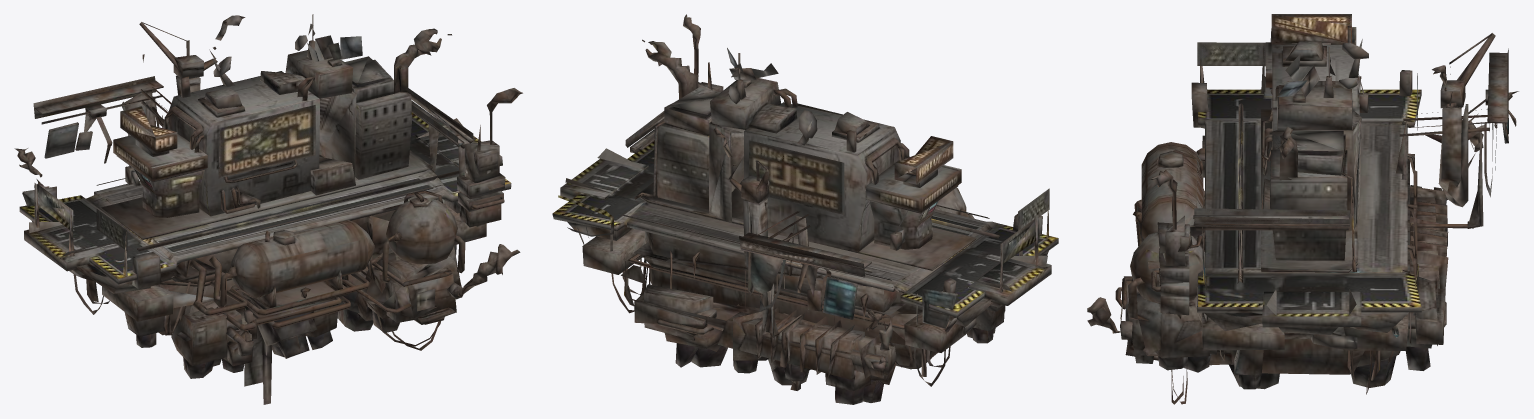
Rendered from gas_n_go_station.glb.
3 renders of one model, left to right at view 1: azimuth 30°, elevation 25°; view 2: azimuth 150°, elevation 25°; view 3: azimuth 270°, elevation 25°, orthographic. The views are drawn at different scales.
Bounding box in the file's own units: 0.9565 × 0.6729 × 0.7251.
Materials: 1 (1 with a texture image).
